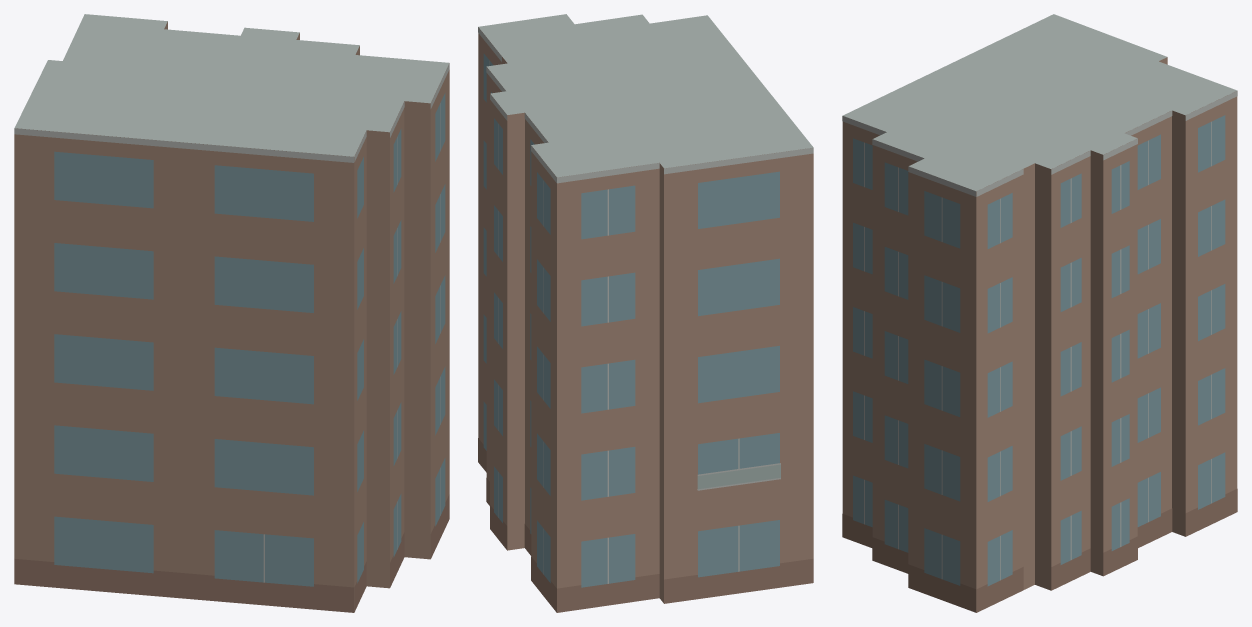
The model's file is survey-upis-32529798.glb.
3 views of the same model, side by side, from view 1: azimuth 30°, elevation 25°; view 2: azimuth 150°, elevation 25°; view 3: azimuth 270°, elevation 25° (orthographic). The views are drawn at different scales.
Visible parts, largest first — view 1: survey-upis-32529798.tmp; view 2: survey-upis-32529798.tmp; view 3: survey-upis-32529798.tmp.
Part boxes in pixels (left/top/right/bottom): survey-upis-32529798.tmp: left=14, top=14, right=449, bottom=612; survey-upis-32529798.tmp: left=478, top=14, right=813, bottom=612; survey-upis-32529798.tmp: left=842, top=14, right=1237, bottom=612.
Bounding box in the file's own units: 16.25 × 18 × 15.29.
